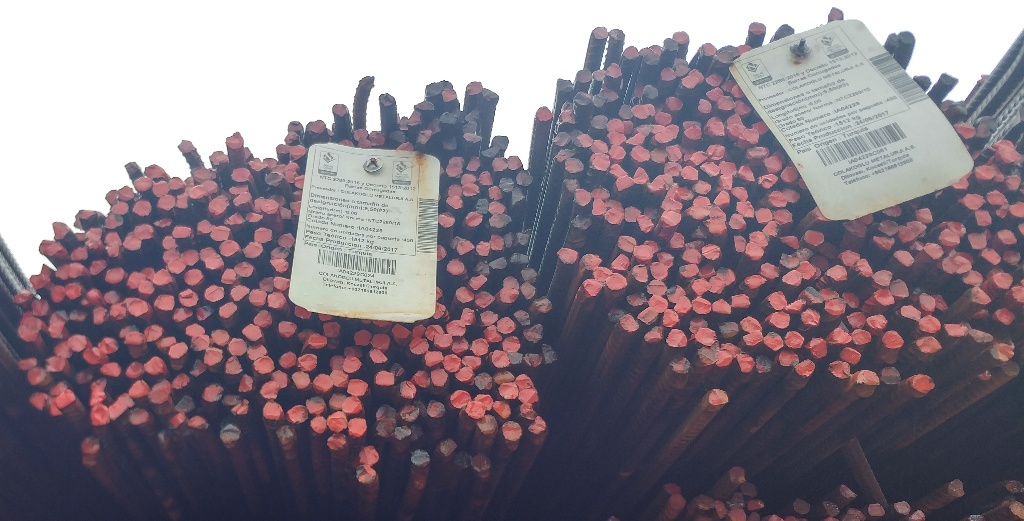dipstick: (990, 343, 1016, 362), (358, 445, 379, 466), (843, 220, 867, 238), (477, 415, 498, 435), (998, 146, 1021, 164), (502, 421, 522, 441), (916, 336, 941, 352), (347, 418, 368, 437), (327, 412, 346, 433), (126, 298, 148, 316), (880, 367, 902, 385), (717, 46, 740, 63), (241, 322, 261, 341), (88, 306, 108, 325), (698, 346, 717, 366), (73, 212, 98, 227), (810, 337, 827, 359), (39, 240, 62, 256), (209, 196, 228, 215), (89, 405, 108, 424), (785, 330, 804, 349), (255, 356, 275, 374), (770, 311, 790, 329), (667, 330, 687, 348), (973, 286, 991, 306), (348, 380, 369, 397), (298, 354, 319, 371), (202, 384, 223, 401), (877, 220, 898, 237), (884, 332, 905, 349), (919, 316, 940, 333), (709, 298, 731, 314), (856, 370, 879, 385), (963, 195, 986, 210), (123, 231, 141, 250), (524, 324, 542, 343), (466, 401, 485, 419), (442, 354, 461, 372), (471, 451, 489, 470), (313, 373, 332, 391), (264, 402, 283, 420), (764, 332, 783, 350), (941, 229, 960, 247), (446, 157, 463, 177), (450, 390, 470, 407), (327, 433, 347, 450), (342, 397, 362, 414), (266, 292, 286, 309), (189, 335, 209, 352), (591, 154, 611, 171), (125, 362, 146, 378), (782, 270, 803, 286), (829, 361, 850, 377), (606, 274, 628, 289), (970, 328, 995, 341), (471, 338, 489, 356), (425, 350, 443, 368), (68, 334, 86, 352), (130, 408, 148, 426), (475, 291, 494, 308), (179, 290, 198, 307), (98, 337, 117, 354), (143, 324, 162, 341), (130, 381, 149, 398), (228, 338, 247, 355), (663, 210, 682, 227), (802, 308, 821, 325), (833, 329, 852, 346), (697, 329, 716, 346), (982, 250, 1001, 267), (996, 307, 1015, 324), (205, 286, 225, 302), (46, 357, 66, 373), (827, 265, 847, 281), (670, 357, 690, 373), (709, 389, 729, 405), (901, 304, 921, 320), (104, 268, 125, 283), (825, 300, 846, 315), (874, 289, 895, 304), (19, 314, 43, 327), (490, 215, 512, 229), (497, 317, 515, 334), (502, 336, 520, 353), (474, 373, 492, 390), (494, 401, 511, 419), (357, 467, 375, 484), (292, 371, 309, 389), (184, 269, 202, 286), (230, 285, 248, 302), (145, 356, 163, 373), (617, 235, 635, 252), (693, 297, 711, 314), (645, 326, 663, 343), (874, 269, 891, 287), (891, 279, 908, 297), (479, 310, 498, 326), (409, 339, 428, 355), (400, 405, 419, 421), (377, 404, 396, 420), (306, 398, 325, 414), (220, 240, 239, 256), (56, 391, 75, 407), (82, 436, 101, 452), (237, 374, 253, 393), (558, 248, 577, 264), (745, 243, 764, 259), (639, 307, 658, 323), (689, 316, 708, 332), (779, 350, 798, 366), (955, 123, 974, 139), (994, 272, 1013, 288), (1002, 250, 1021, 266), (287, 406, 307, 421), (243, 242, 263, 257), (155, 295, 175, 310), (221, 427, 241, 442), (649, 296, 669, 311), (988, 191, 1008, 206), (894, 251, 914, 266), (498, 384, 519, 398), (100, 363, 121, 377), (154, 269, 171, 286), (492, 351, 509, 368), (485, 326, 502, 343), (520, 403, 537, 420), (54, 342, 71, 359), (605, 208, 622, 225), (811, 254, 828, 271), (942, 257, 959, 274), (948, 478, 965, 495), (793, 497, 810, 514), (52, 223, 70, 239), (455, 287, 473, 303), (392, 323, 410, 339), (400, 381, 416, 399), (428, 401, 446, 417), (330, 371, 348, 387), (261, 381, 277, 399), (250, 289, 266, 307), (225, 356, 241, 374), (211, 329, 229, 345), (692, 278, 710, 294), (769, 293, 787, 309), (797, 360, 815, 376), (843, 347, 861, 363), (925, 242, 943, 258), (976, 209, 992, 227), (696, 494, 714, 510), (572, 134, 594, 147), (819, 287, 841, 300), (134, 225, 153, 240), (530, 417, 545, 436), (343, 357, 362, 372), (49, 309, 68, 324), (47, 381, 66, 396), (196, 305, 215, 320), (800, 260, 815, 279), (998, 229, 1017, 244), (667, 493, 686, 508), (30, 274, 50, 288), (169, 343, 189, 357), (173, 309, 193, 323), (591, 186, 611, 200), (689, 205, 709, 219), (853, 331, 873, 345), (743, 332, 763, 346), (946, 323, 969, 335), (571, 216, 592, 229), (706, 220, 727, 233), (731, 294, 752, 307), (959, 255, 972, 276), (866, 315, 887, 328), (914, 376, 935, 389), (226, 133, 243, 149), (152, 181, 169, 197), (425, 80, 442, 96), (519, 283, 535, 300), (377, 421, 394, 437), (311, 416, 327, 433), (28, 393, 44, 410), (167, 413, 184, 429), (205, 348, 221, 365), (536, 106, 553, 122), (565, 158, 582, 174), (638, 215, 654, 232), (613, 254, 629, 271), (593, 267, 610, 283), (842, 250, 859, 266), (969, 233, 985, 250), (728, 491, 744, 508), (1006, 478, 1023, 494), (447, 321, 465, 336), (451, 338, 469, 353), (430, 370, 448, 385), (371, 334, 389, 349), (439, 440, 457, 455), (278, 322, 296, 337), (236, 263, 254, 278), (69, 307, 87, 322), (176, 396, 194, 411), (553, 132, 571, 147), (720, 161, 738, 176), (635, 245, 653, 260), (737, 203, 755, 218), (583, 255, 601, 270), (739, 353, 754, 371), (899, 228, 917, 243), (13, 291, 32, 305), (231, 168, 250, 182), (542, 344, 556, 363), (410, 450, 429, 464), (270, 259, 289, 273), (189, 415, 208, 429), (600, 88, 619, 102), (631, 147, 650, 161), (759, 174, 778, 188), (915, 209, 934, 223), (192, 169, 214, 181), (556, 148, 578, 160), (873, 236, 895, 248), (494, 370, 514, 383), (148, 390, 168, 403), (741, 317, 761, 330), (1007, 173, 1020, 193), (90, 260, 106, 276), (128, 272, 144, 288), (470, 274, 486, 290), (411, 323, 427, 339), (262, 199, 278, 215), (110, 305, 126, 321), (666, 145, 682, 161), (770, 191, 786, 207), (651, 262, 667, 278), (951, 102, 967, 118), (909, 221, 925, 237), (55, 264, 70, 281), (438, 212, 455, 227), (535, 299, 552, 314), (394, 426, 411, 441), (273, 371, 288, 388), (254, 310, 271, 325), (255, 228, 272, 243), (84, 349, 101, 364), (109, 405, 126, 420), (171, 374, 188, 389), (219, 302, 236, 317), (623, 206, 640, 221), (650, 149, 667, 164), (709, 206, 726, 221), (633, 265, 648, 282), (621, 315, 638, 330), (757, 356, 772, 373), (69, 248, 87, 262), (465, 212, 483, 226), (462, 355, 480, 369), (519, 389, 537, 403), (426, 325, 444, 339), (369, 350, 387, 364), (376, 371, 394, 385), (18, 328, 36, 342), (123, 332, 144, 344), (556, 80, 574, 94), (574, 92, 592, 106), (616, 177, 634, 191), (709, 122, 727, 136), (702, 246, 720, 260), (761, 264, 779, 278), (848, 313, 866, 327), (720, 322, 738, 336), (977, 164, 995, 178), (839, 483, 857, 497), (196, 221, 215, 234), (499, 290, 518, 303), (248, 345, 267, 358), (270, 246, 289, 259), (156, 335, 175, 348), (684, 126, 703, 139), (690, 151, 709, 164), (805, 232, 824, 245), (868, 503, 887, 516), (112, 394, 134, 405), (144, 166, 164, 178), (32, 299, 47, 315), (65, 283, 81, 298), (492, 157, 508, 172), (507, 156, 523, 171), (511, 187, 526, 203), (515, 310, 530, 326), (455, 451, 470, 467), (280, 352, 295, 368), (278, 427, 294, 442), (279, 232, 295, 247), (220, 269, 236, 284), (49, 321, 64, 337), (191, 360, 206, 376), (233, 401, 249, 416), (185, 323, 205, 335), (575, 190, 591, 205), (748, 147, 768, 159), (781, 166, 796, 182), (657, 252, 673, 267), (717, 352, 733, 367), (966, 270, 981, 286), (212, 227, 229, 241), (516, 171, 533, 185), (490, 235, 504, 252), (502, 275, 519, 289), (516, 373, 533, 387), (455, 367, 472, 381), (308, 334, 325, 348), (592, 140, 609, 154), (700, 43, 717, 57), (609, 145, 626, 159), (666, 97, 683, 111), (681, 166, 698, 180), (755, 209, 772, 223), (774, 210, 791, 224), (781, 254, 798, 268), (718, 268, 735, 282), (681, 264, 698, 278), (648, 281, 665, 295), (584, 281, 601, 295), (845, 291, 859, 308), (949, 221, 966, 235), (920, 295, 934, 312), (730, 467, 744, 484), (133, 202, 151, 215), (82, 290, 100, 303), (265, 173, 283, 186), (388, 130, 406, 143), (225, 213, 243, 226), (663, 197, 681, 210), (750, 232, 768, 245), (781, 236, 799, 249), (746, 276, 764, 289), (627, 293, 645, 306), (858, 260, 871, 278), (109, 203, 128, 215), (18, 358, 37, 370), (610, 165, 629, 177), (631, 106, 650, 118), (607, 133, 626, 145), (682, 251, 701, 263), (912, 74, 931, 86), (1012, 284, 1024, 303), (289, 145, 304, 160), (479, 170, 494, 185), (499, 176, 514, 191), (560, 111, 575, 126), (592, 115, 607, 130), (592, 93, 607, 108), (633, 168, 648, 183), (976, 124, 991, 139), (103, 290, 119, 304), (369, 132, 385, 146), (520, 267, 536, 281), (476, 395, 492, 409), (355, 331, 371, 345), (272, 276, 288, 290), (27, 369, 43, 383), (606, 63, 622, 77), (750, 22, 766, 36), (743, 129, 759, 143), (732, 187, 748, 201), (714, 192, 730, 206), (805, 288, 821, 302), (822, 501, 838, 515), (1010, 502, 1024, 518), (135, 178, 152, 191), (211, 152, 228, 165), (104, 233, 121, 246), (234, 193, 251, 206), (461, 121, 478, 134), (446, 197, 463, 210), (434, 335, 451, 348), (416, 370, 429, 387), (592, 199, 605, 216), (608, 120, 625, 133), (664, 162, 681, 175), (676, 297, 689, 314), (723, 344, 740, 357), (777, 26, 794, 39), (894, 502, 911, 515), (172, 227, 192, 238), (150, 379, 170, 390), (164, 250, 182, 262), (153, 217, 171, 229), (307, 121, 325, 133), (488, 202, 506, 214), (119, 324, 137, 336), (563, 178, 581, 190), (718, 98, 736, 110), (698, 265, 716, 277), (786, 300, 804, 312), (747, 499, 765, 511), (118, 187, 133, 201), (50, 286, 64, 301), (467, 81, 482, 95), (466, 157, 481, 171), (476, 242, 490, 257), (509, 253, 530, 263), (329, 356, 343, 371), (183, 251, 198, 265), (49, 395, 59, 416), (624, 45, 638, 60), (644, 85, 659, 99), (650, 177, 664, 192), (664, 311, 678, 326), (464, 133, 483, 144), (222, 393, 241, 404), (169, 177, 185, 190), (138, 281, 154, 294), (168, 260, 184, 273), (162, 236, 178, 249), (418, 129, 431, 145), (482, 88, 498, 101), (516, 230, 529, 246), (447, 261, 463, 274), (205, 256, 221, 269), (740, 165, 753, 181), (753, 121, 769, 134), (677, 189, 693, 202), (105, 216, 122, 228), (248, 158, 265, 170), (463, 185, 480, 197), (434, 303, 446, 320), (525, 354, 542, 366), (199, 248, 216, 260), (76, 370, 93, 382), (694, 182, 711, 194), (995, 138, 1015, 148), (413, 101, 435, 110), (436, 245, 447, 263), (462, 308, 473, 326), (344, 347, 362, 358), (716, 500, 727, 518), (458, 242, 472, 256), (709, 145, 723, 159), (730, 214, 744, 228), (178, 140, 193, 153), (332, 104, 347, 117), (379, 94, 394, 107), (577, 70, 592, 83), (766, 157, 779, 172), (671, 233, 684, 248), (742, 483, 757, 496), (189, 186, 205, 198), (474, 263, 490, 275), (323, 323, 339, 335), (706, 74, 722, 86), (735, 235, 747, 251), (671, 286, 683, 302), (935, 294, 947, 310), (728, 509, 744, 521), (229, 185, 248, 195), (504, 230, 514, 249), (692, 196, 711, 206), (439, 113, 456, 124), (627, 134, 644, 145), (702, 164, 719, 175), (70, 265, 83, 279), (442, 136, 456, 149), (448, 184, 462, 197), (489, 186, 502, 200), (736, 102, 750, 115), (785, 190, 799, 203), (764, 223, 777, 237), (901, 31, 915, 44), (158, 197, 173, 209), (86, 238, 101, 250), (492, 137, 507, 149), (461, 173, 476, 185), (491, 257, 506, 269), (508, 352, 523, 364), (92, 380, 107, 392), (90, 392, 105, 404), (664, 38, 679, 50), (661, 68, 676, 80), (682, 76, 697, 88), (730, 124, 745, 136), (681, 119, 701, 128), (941, 74, 959, 84), (284, 133, 300, 144), (287, 121, 303, 132), (252, 196, 263, 212), (246, 212, 262, 223), (609, 29, 625, 40), (673, 57, 689, 68), (637, 125, 653, 136), (85, 229, 102, 239), (996, 166, 1006, 183), (105, 189, 118, 202), (475, 199, 488, 212), (594, 27, 607, 40), (830, 7, 843, 20), (984, 118, 997, 131), (125, 163, 139, 175), (296, 307, 310, 319), (620, 105, 632, 119), (675, 32, 689, 44), (667, 126, 679, 140), (699, 100, 711, 114), (797, 248, 811, 260), (284, 169, 295, 184), (353, 129, 368, 140), (290, 200, 301, 215), (656, 113, 671, 124), (721, 175, 732, 190), (888, 33, 899, 48), (910, 510, 925, 521), (296, 174, 306, 190), (665, 484, 681, 494), (466, 109, 479, 121), (361, 76, 375, 87), (442, 90, 456, 101), (708, 89, 722, 100), (643, 55, 658, 65), (41, 265, 53, 277), (143, 267, 155, 279), (593, 69, 605, 81), (663, 174, 672, 190), (607, 310, 623, 319), (203, 181, 216, 192), (410, 112, 421, 125), (691, 70, 704, 81), (356, 139, 370, 149), (399, 117, 409, 131), (452, 237, 466, 247), (261, 278, 271, 292), (482, 148, 499, 156), (655, 135, 672, 143), (686, 241, 703, 249), (280, 208, 291, 220), (651, 44, 664, 54), (733, 85, 743, 98), (728, 114, 741, 124), (645, 241, 659, 250), (106, 247, 119, 256), (277, 144, 287, 155), (774, 152, 784, 163), (563, 101, 573, 111), (722, 81, 732, 91), (265, 158, 276, 167), (624, 121, 631, 135), (285, 162, 298, 169), (655, 124, 665, 133), (676, 67, 687, 75), (640, 48, 654, 54), (749, 511, 757, 521), (709, 117, 723, 121)
